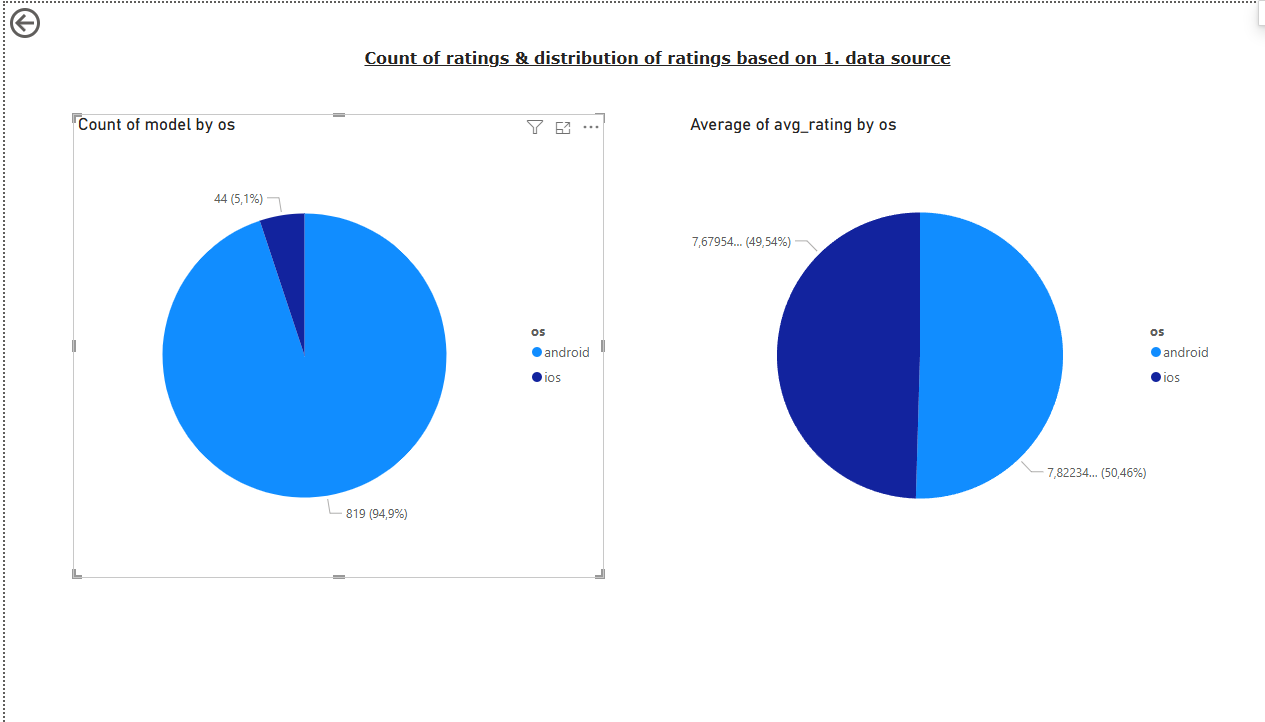

The page's visual inventory and layout, read from the dashboard file:
{"tool":"powerbi","page":{"name":"Report-5","canvas":[1280,720],"ordinal":4},"visuals":[{"type":"pieChart","fields":{"Category":["SmartPhone.os"],"Y":["Avg(SmartPhone.avg_rating)"]},"box":[680,111.2,537.5,463.8],"z":0},{"type":"actionButton","box":[0,0,100,40],"z":1000},{"type":"pieChart","fields":{"Category":["SmartPhone.os"],"Y":["CountNonNull(SmartPhone.model)"]},"box":[67.5,111.2,531.2,463.8],"z":2000},{"type":"textbox","box":[346.2,40,612.5,42.5],"z":3000}]}

Visuals, with their boxes in screenshot pixels (x1, y1, x2, y2), scaled from the page's 1280x720 canvas onto the 1265x722 screenshot:
pieChart - SmartPhone.os x Avg(SmartPhone.avg_rating): Rect(672, 112, 1203, 577)
actionButton: Rect(0, 0, 99, 40)
pieChart - SmartPhone.os x CountNonNull(SmartPhone.model): Rect(67, 112, 592, 577)
textbox: Rect(342, 40, 947, 83)
